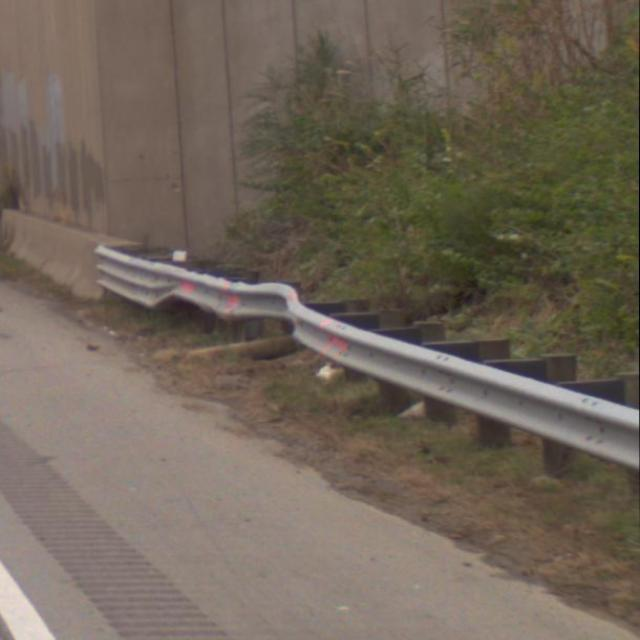Guard rail: (96, 245, 640, 508)
